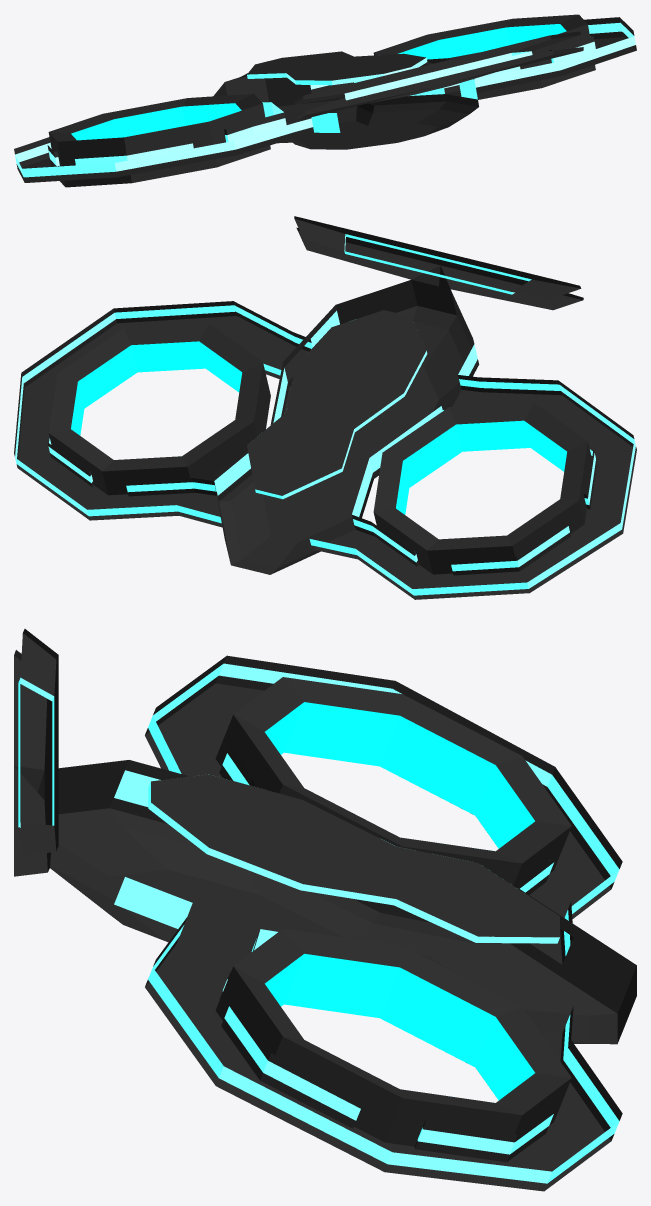
Rendered from drone-optimized.glb.
3 views of the same model, one above another, from view 1: azimuth 30°, elevation 25°; view 2: azimuth 150°, elevation 25°; view 3: azimuth 270°, elevation 25° (orthographic). The views are drawn at different scales.
Visible parts, largest first — view 1: Object_5, Object_3, Object_6, Object_4; view 2: Object_5, Object_3, Object_6, Object_4; view 3: Object_5, Object_3, Object_4, Object_6.
Boxes of the visible parts, box(x1,y1,x2,y2) form: Object_5: box(14, 17, 636, 182); Object_3: box(48, 14, 595, 187); Object_6: box(15, 22, 635, 177); Object_4: box(71, 24, 566, 140); Object_5: box(14, 216, 636, 599); Object_3: box(48, 323, 591, 574); Object_6: box(15, 234, 635, 595); Object_4: box(71, 341, 566, 514); Object_5: box(14, 629, 636, 1191); Object_3: box(215, 677, 571, 1146); Object_4: box(265, 702, 534, 1100); Object_6: box(18, 663, 619, 1183).
Size of the model in its own units: 1.81 by 0.528 by 1.03.
